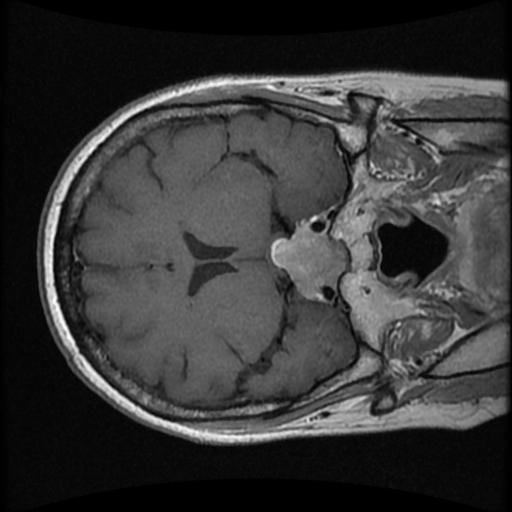pituitary tumour: (271, 228, 345, 298)
